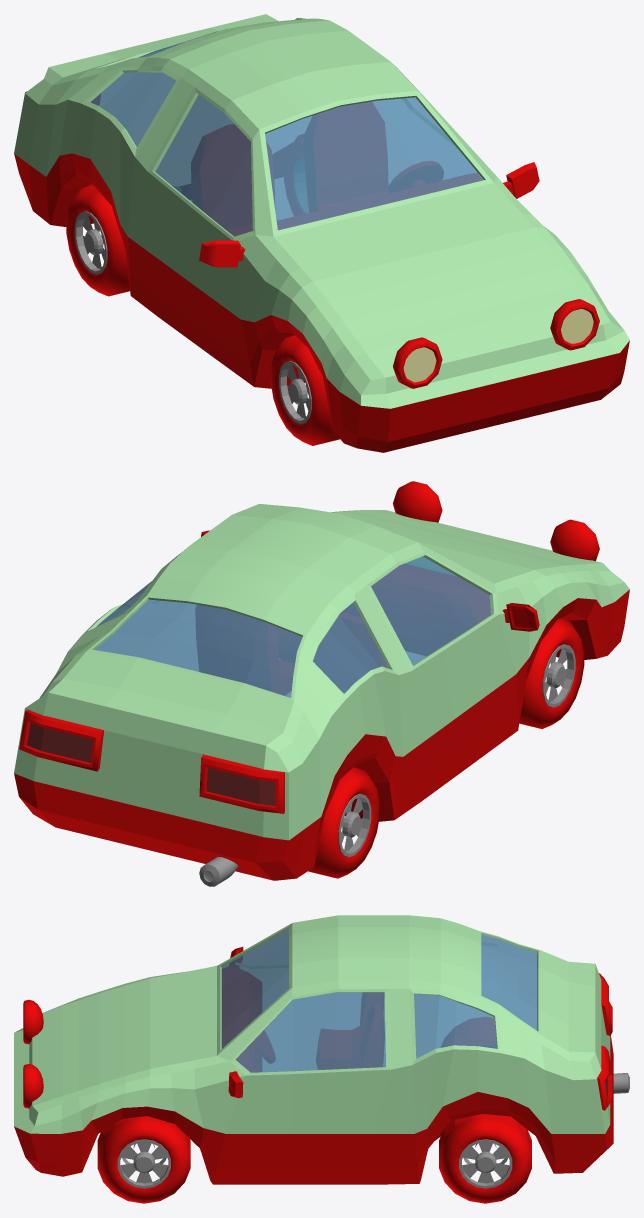
The model's file is toyo_evo1_green_light_red.glb.
3 renders of one model, top to bottom at view 1: azimuth 30°, elevation 25°; view 2: azimuth 150°, elevation 25°; view 3: azimuth 270°, elevation 25°, orthographic. The views are drawn at different scales.
Visible parts, largest first — view 1: body:PIV, glass_front:PIV, glass_rf:PIV, seat_l:PIV, seat_r:PIV, tire_rb:PIV, tire_rf:PIV, glass_rb:PIV, int_front_bloc3:PIV, rim_rb:PIV, rim_rf:PIV, headlight_rf:PIV (+7 smaller); view 2: body:PIV, glass_back:PIV, glass_rf:PIV, int_front_bloc3:PIV, seat_l:PIV, glass_rb:PIV, tire_rb:PIV, tire_rf:PIV, seat_r:PIV, backlight_rb, backlight_lb, backlight_glass_rb:PIV (+8 smaller); view 3: body:PIV, glass_lf:PIV, tire_lb:PIV, glass_front:PIV, tire_lf:PIV, glass_back:PIV, glass_lb:PIV, int_front_bloc3:PIV, seat_r:PIV, rim_lf:PIV, rim_lb:PIV, tire_rb:PIV (+6 smaller).
Boxes of the visible parts, bbox=[...] form: body:PIV: bbox=[14, 14, 629, 452]; glass_front:PIV: bbox=[265, 97, 483, 230]; glass_rf:PIV: bbox=[155, 94, 252, 236]; seat_l:PIV: bbox=[304, 102, 387, 211]; seat_r:PIV: bbox=[191, 125, 274, 235]; tire_rb:PIV: bbox=[66, 185, 129, 296]; tire_rf:PIV: bbox=[270, 335, 339, 445]; glass_rb:PIV: bbox=[90, 72, 175, 146]; int_front_bloc3:PIV: bbox=[277, 173, 481, 229]; rim_rb:PIV: bbox=[74, 211, 107, 274]; rim_rf:PIV: bbox=[279, 361, 311, 424]; headlight_rf:PIV: bbox=[393, 337, 442, 388]; body:PIV: bbox=[14, 504, 629, 880]; glass_back:PIV: bbox=[94, 599, 302, 697]; glass_rf:PIV: bbox=[371, 556, 490, 664]; int_front_bloc3:PIV: bbox=[343, 564, 490, 655]; seat_l:PIV: bbox=[196, 605, 294, 694]; glass_rb:PIV: bbox=[313, 602, 388, 693]; tire_rb:PIV: bbox=[308, 767, 379, 878]; tire_rf:PIV: bbox=[519, 618, 584, 728]; seat_r:PIV: bbox=[313, 613, 387, 692]; backlight_rb: bbox=[199, 754, 284, 813]; backlight_lb: bbox=[19, 709, 103, 771]; backlight_glass_rb:PIV: bbox=[206, 767, 275, 806]; body:PIV: bbox=[14, 915, 613, 1184]; glass_lf:PIV: bbox=[236, 992, 385, 1072]; tire_lb:PIV: bbox=[439, 1114, 531, 1203]; glass_front:PIV: bbox=[221, 929, 289, 1048]; tire_lf:PIV: bbox=[97, 1116, 190, 1203]; glass_back:PIV: bbox=[481, 934, 537, 1030]; glass_lb:PIV: bbox=[414, 994, 497, 1058]; int_front_bloc3:PIV: bbox=[222, 966, 261, 1071]; seat_r:PIV: bbox=[316, 993, 383, 1069]; rim_lf:PIV: bbox=[117, 1139, 170, 1188]; rim_lb:PIV: bbox=[459, 1139, 512, 1188]; tire_rb:PIV: bbox=[442, 1017, 496, 1047].
Bounding box in the file's own units: 180 × 129 × 338.
